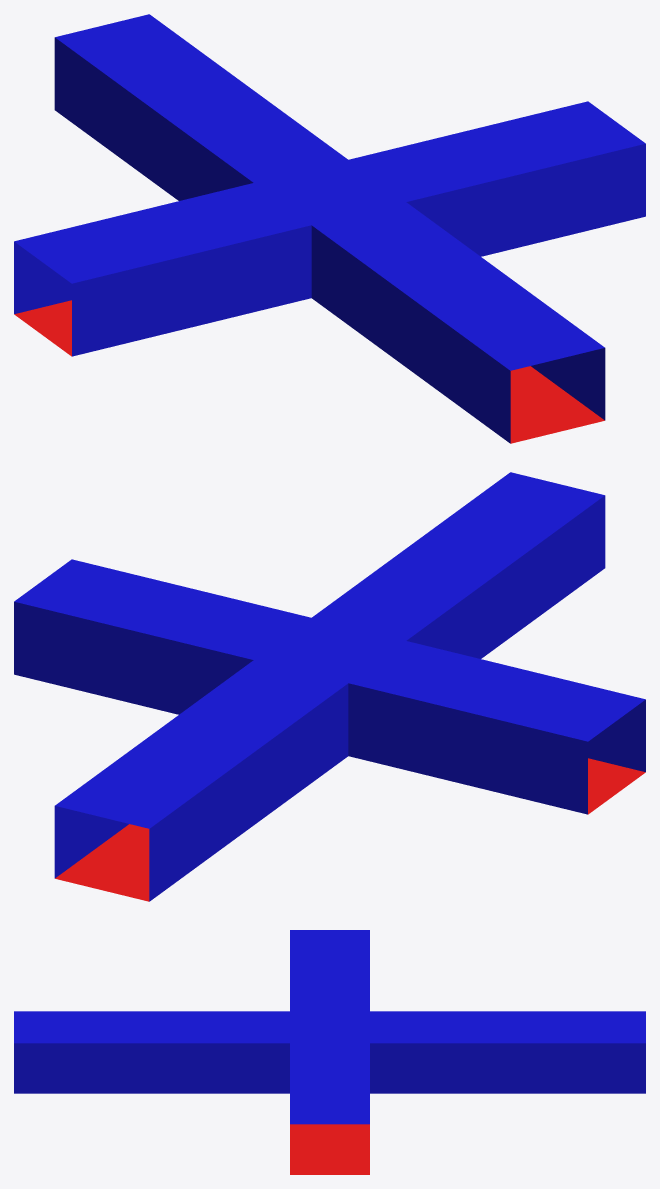
The model's file is toonel_2.FBX.
3 views of the same model, one above another, from view 1: azimuth 30°, elevation 25°; view 2: azimuth 150°, elevation 25°; view 3: azimuth 270°, elevation 25° (orthographic). The views are drawn at different scales.
Parts seen in each view (by area): view 1: Object003; view 2: Object003; view 3: Object003.
Part boxes in pixels (x1,y1,x2,y2): Object003: (14,14,645,443); Object003: (14,472,645,901); Object003: (14,930,645,1174).
Bounding box in the file's own units: 109 × 13.24 × 150.
